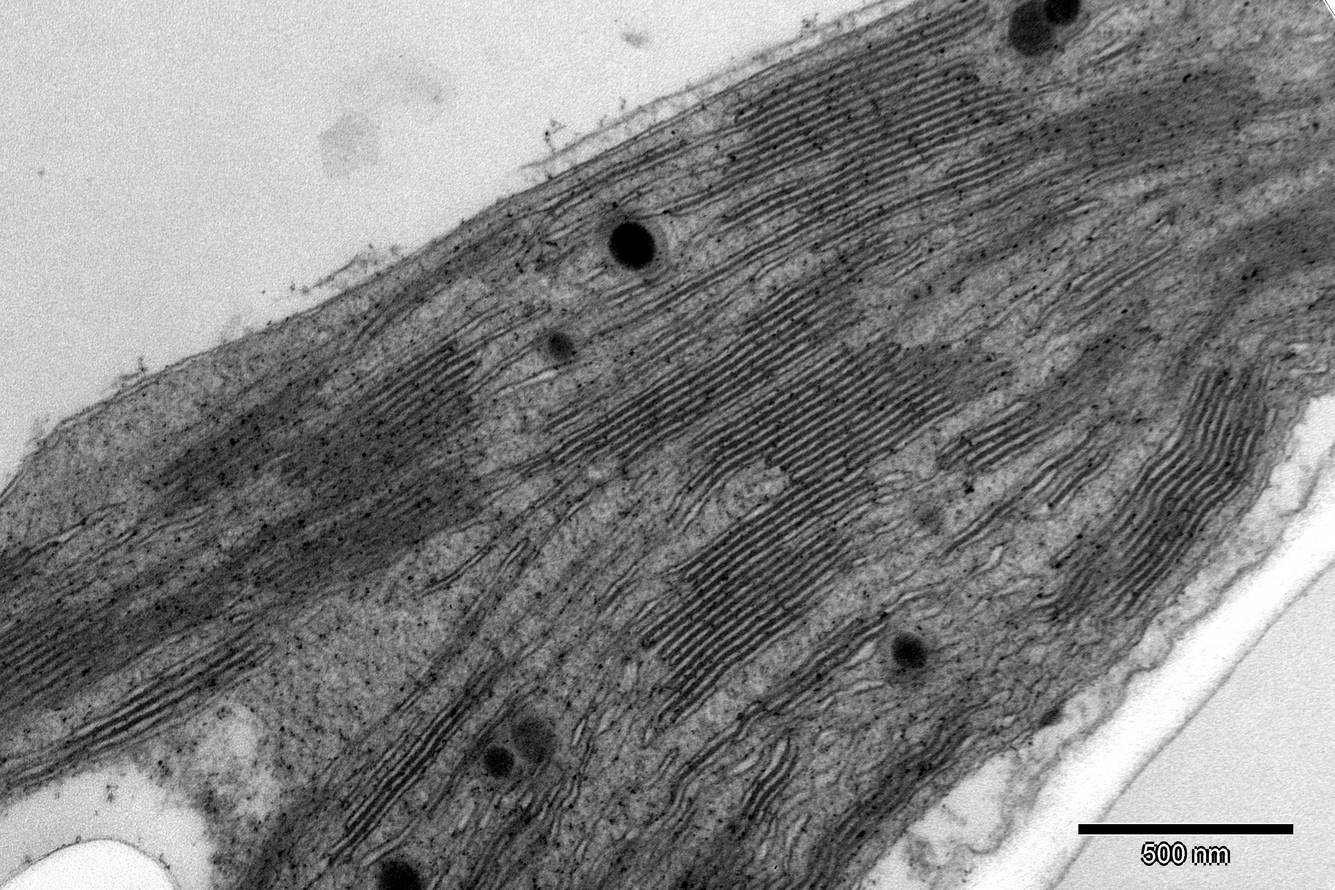granum: (701, 0, 1050, 251), (682, 322, 1018, 537), (1033, 347, 1285, 626), (140, 327, 488, 527), (630, 500, 869, 731), (0, 554, 265, 754), (0, 622, 286, 804), (787, 666, 998, 888), (248, 446, 508, 608), (240, 517, 422, 726), (337, 645, 521, 847), (949, 310, 1167, 479), (705, 223, 903, 404), (321, 207, 537, 369), (535, 286, 733, 441), (1059, 54, 1273, 197), (667, 724, 820, 890), (541, 352, 742, 476), (1190, 164, 1335, 316), (759, 600, 902, 718), (921, 106, 1061, 215), (219, 772, 348, 890), (1049, 238, 1150, 335), (0, 533, 52, 613), (451, 848, 506, 888)
